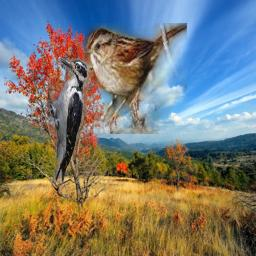Sparrow: (84, 23, 187, 134)
Woodpecker: (48, 58, 93, 188)
